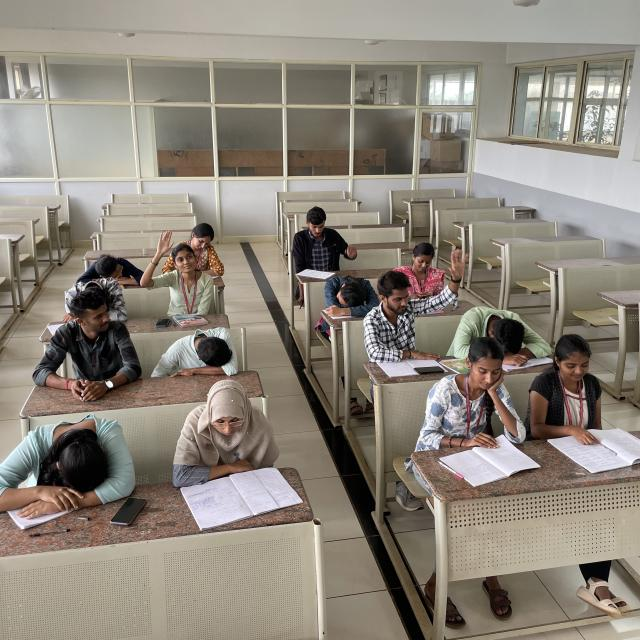Hand Rising: (368, 243, 456, 352), (142, 225, 216, 314)
Reading: (165, 382, 298, 517), (426, 337, 536, 478), (534, 333, 635, 467), (278, 202, 355, 290)
Sleeping: (4, 413, 143, 509), (447, 304, 550, 370), (154, 325, 250, 380), (59, 275, 132, 324), (318, 268, 379, 319), (75, 250, 145, 286)
